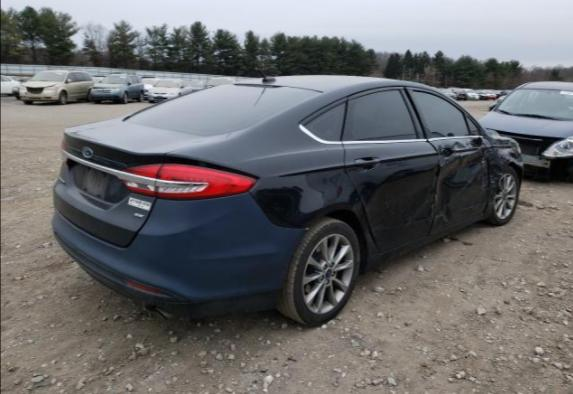Broken part: (485, 138, 523, 179), (359, 198, 382, 255), (493, 174, 516, 218), (482, 147, 493, 215), (468, 138, 484, 149)
Dent: (353, 163, 438, 253), (430, 144, 487, 235)
Missing part: (439, 146, 455, 159), (484, 139, 499, 150)
